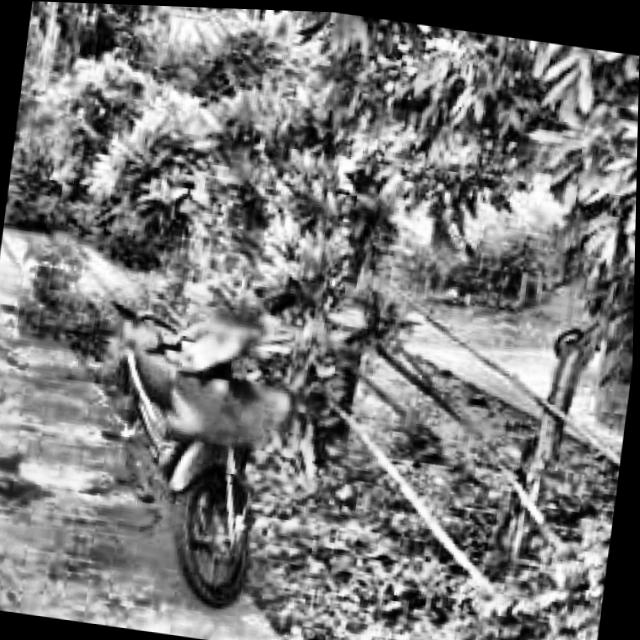motorcycle: (56, 256, 329, 616)
